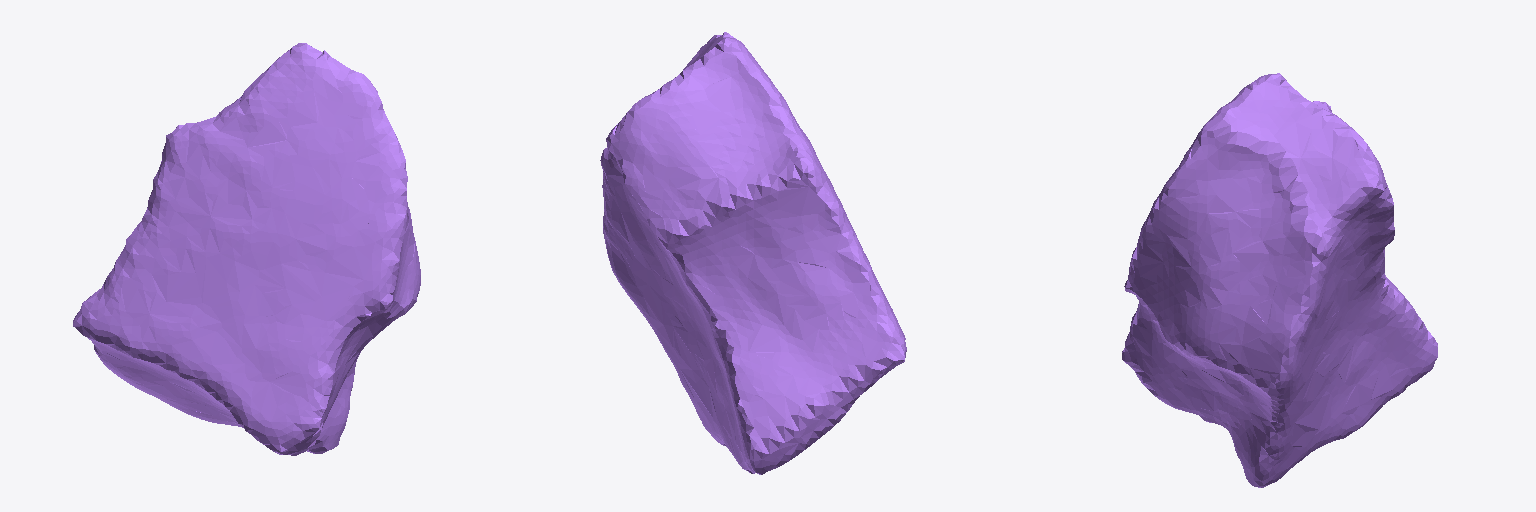
The model's file is Model_10039_LH__Area_8a_of_cortex__ventral_part_(A8aV).obj.
The picture shows the model from 3 angles: view 1: azimuth 30°, elevation 25°; view 2: azimuth 150°, elevation 25°; view 3: azimuth 270°, elevation 25°; orthographic projection.
Size of the model in its own units: 3.44 by 4.18 by 2.94.